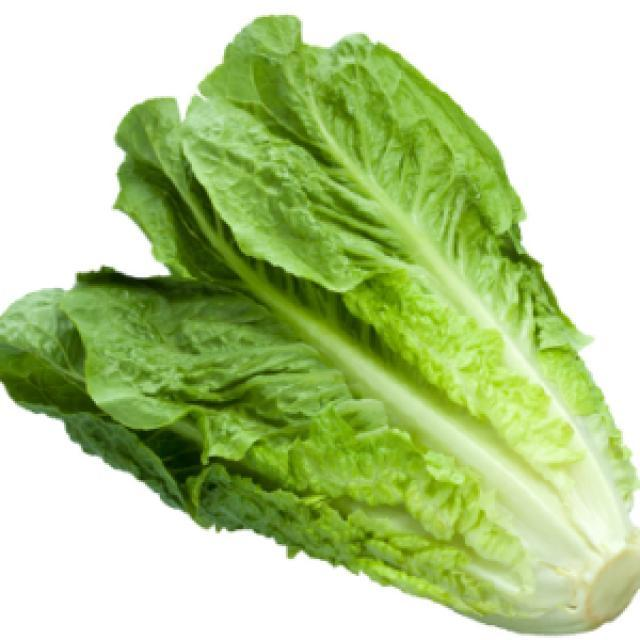Lettuce-Ready-to-Harvest: (0, 13, 640, 634)
